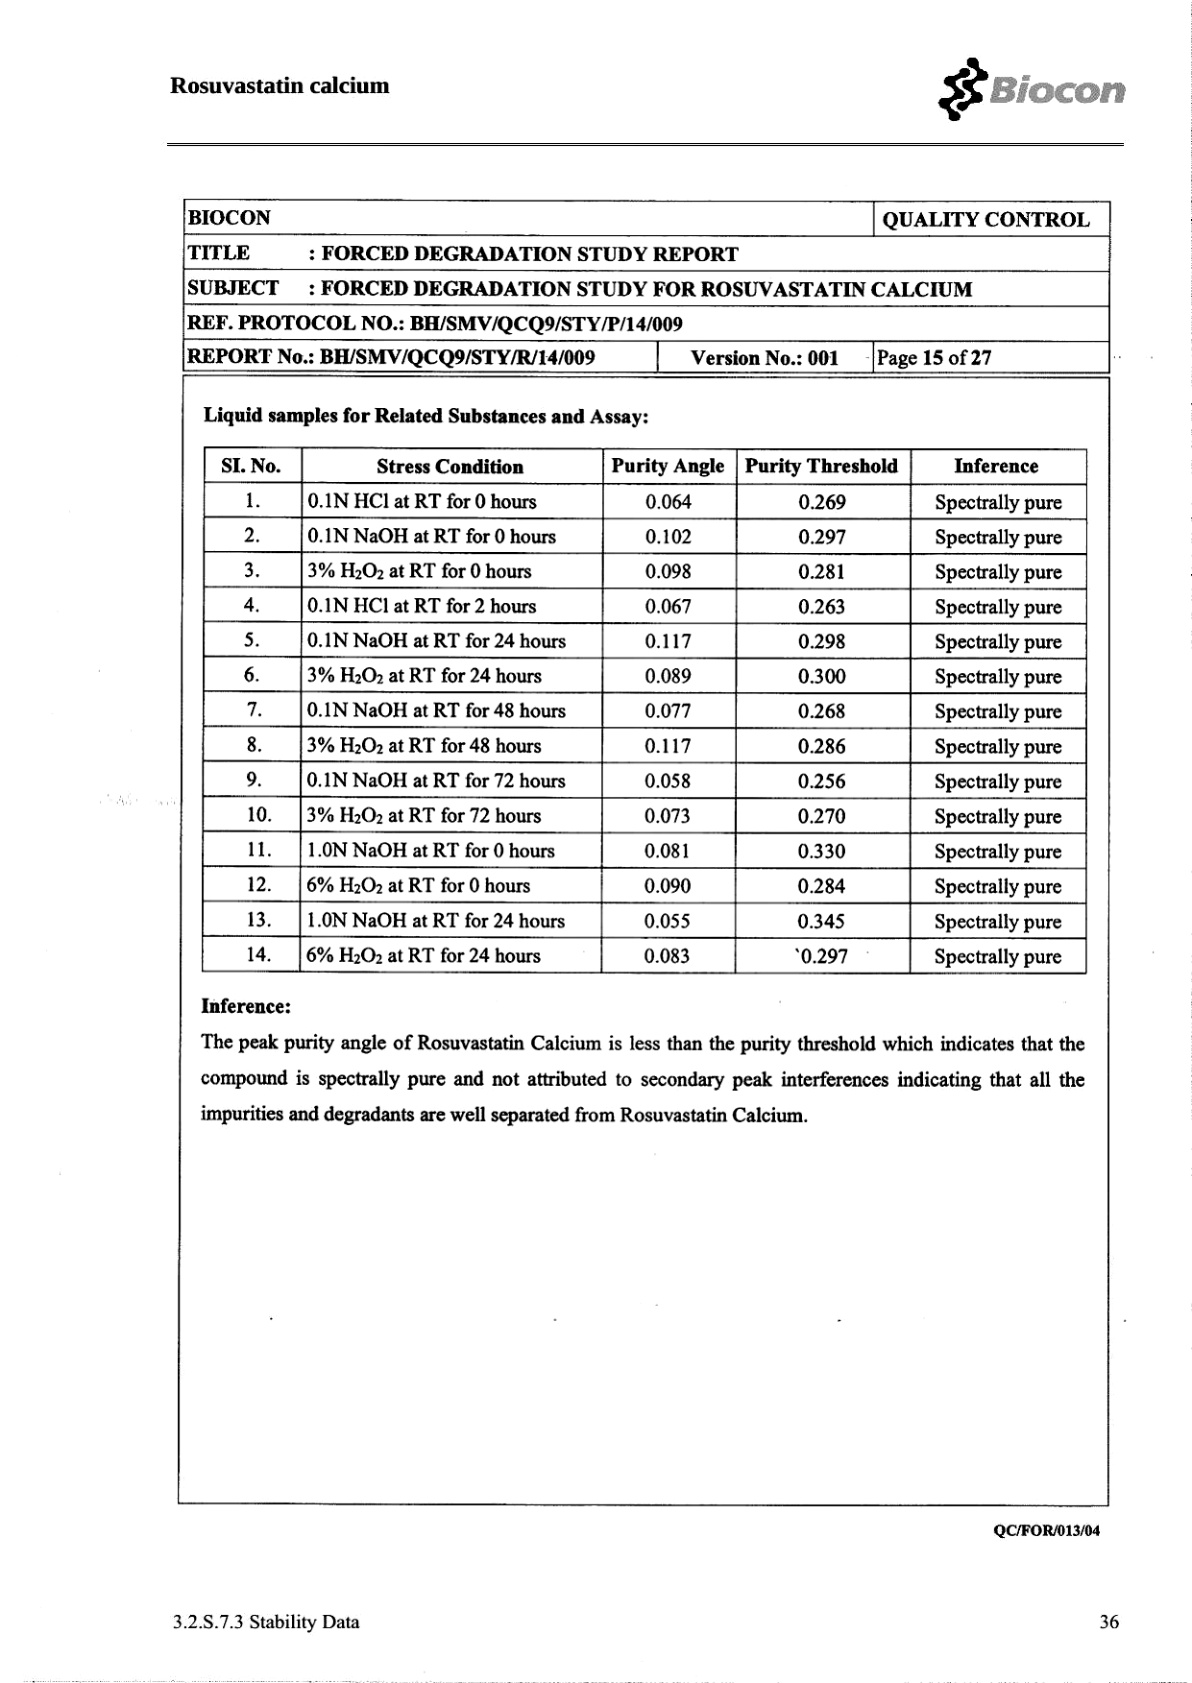full_lined: (203, 445, 1088, 976)
merged_cells: (182, 196, 1111, 375)
